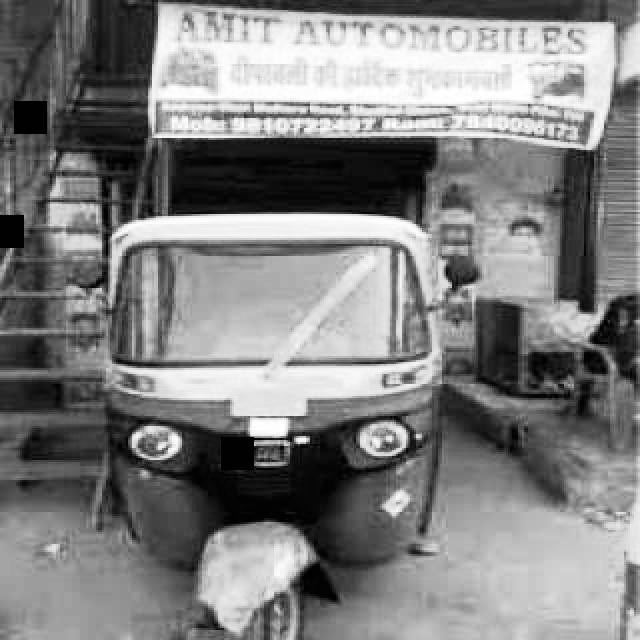Auto-Rickshaw: (94, 204, 456, 630)
